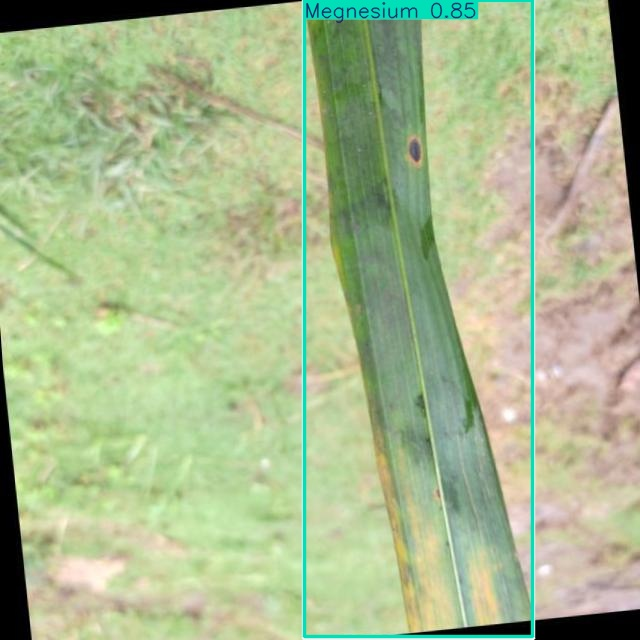Kalium: (304, 0, 533, 638)
Megnesium: (304, 0, 533, 637)
